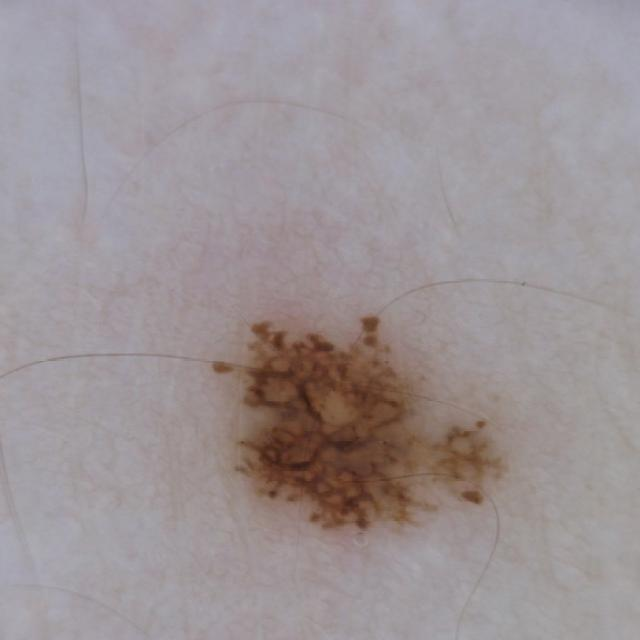Melanoma: (194, 272, 581, 568)
